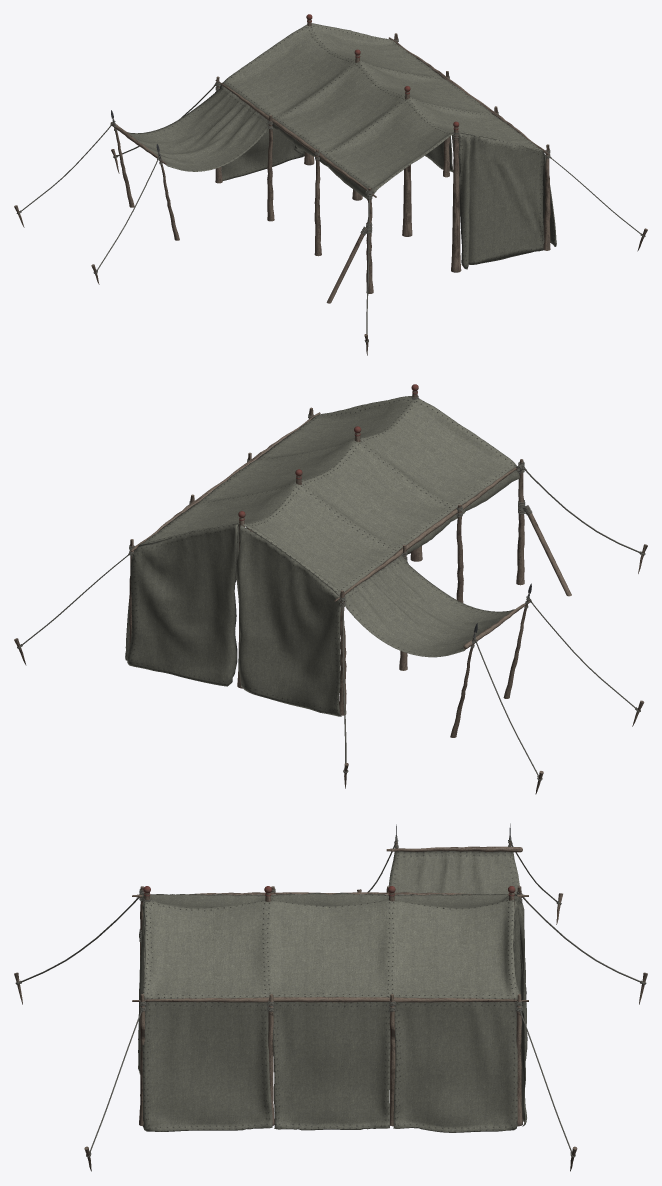
The model's file is tent.glb.
3 views of the same model, one above another, from view 1: azimuth 30°, elevation 25°; view 2: azimuth 150°, elevation 25°; view 3: azimuth 270°, elevation 25° (orthographic). The views are drawn at different scales.
Visible parts, largest first — view 1: Tent_02_top, Tent_02_front_back, Pole_02, Tent_02_sides; view 2: Tent_02_top, Tent_02_front_back, Tent_02_sides, Pole_02; view 3: Tent_02_sides, Tent_02_top, Pole_02, Tent_02_front_back.
Part boxes in pixels (left/top/right/bottom): Tent_02_top: left=223, top=23, right=543, bottom=200; Tent_02_front_back: left=218, top=25, right=545, bottom=269; Pole_02: left=14, top=14, right=647, bottom=355; Tent_02_sides: left=127, top=85, right=556, bottom=246; Tent_02_top: left=138, top=396, right=519, bottom=606; Tent_02_front_back: left=127, top=404, right=410, bottom=716; Tent_02_sides: left=125, top=524, right=514, bottom=660; Pole_02: left=14, top=384, right=647, bottom=794; Tent_02_sides: left=142, top=851, right=519, bottom=1132; Tent_02_top: left=142, top=892, right=516, bottom=999; Pole_02: left=14, top=823, right=647, bottom=1171; Tent_02_front_back: left=138, top=895, right=527, bottom=1126.
Size of the model in its own units: 10.08 by 3.52 by 9.98.
4 materials, 4 textured.
